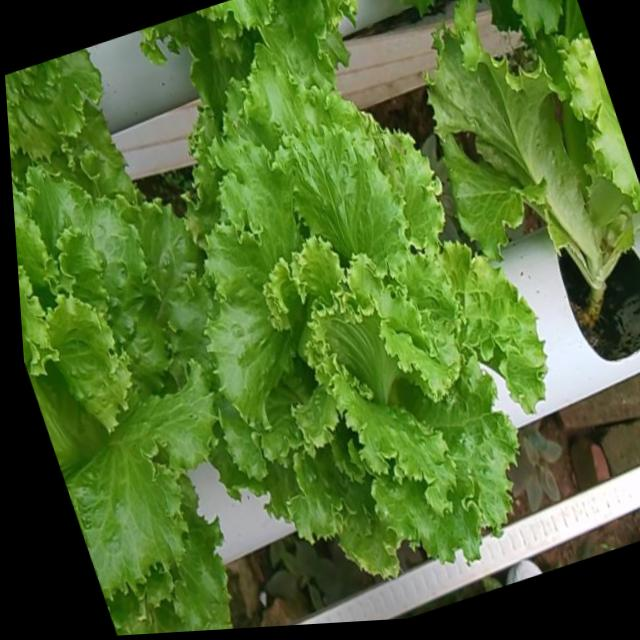Mature: (186, 70, 550, 583), (13, 171, 221, 613)
